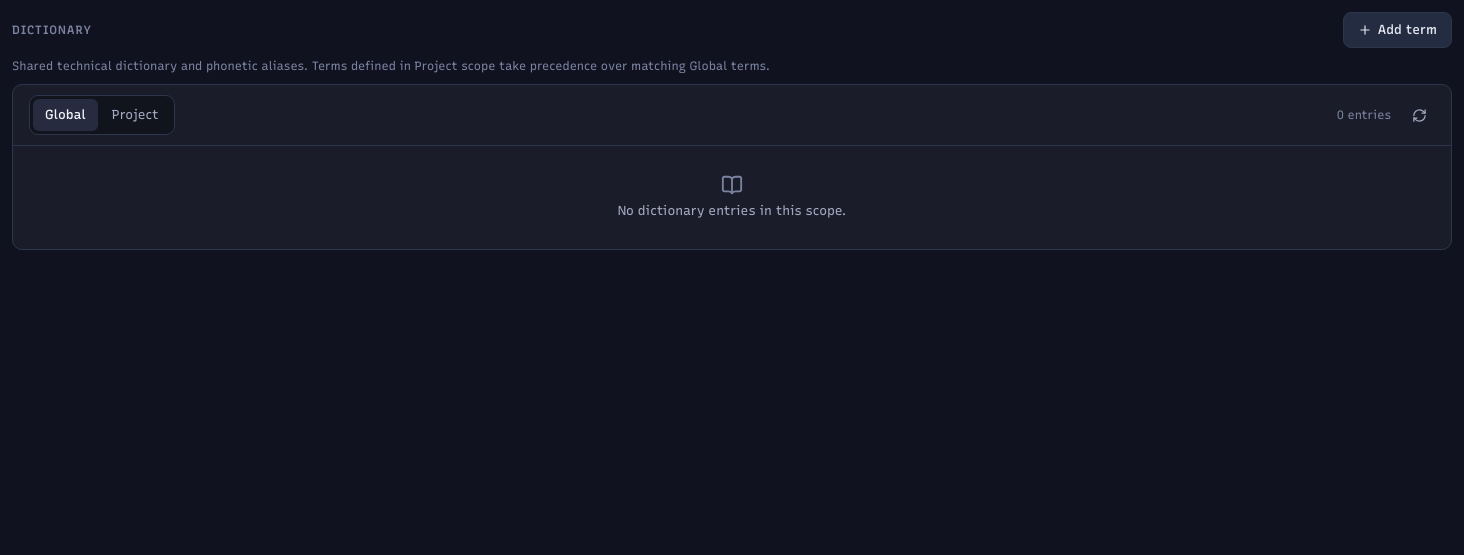
Test case: DictationDictionary (Modernized CRUD) › adds a new dictionary term with comma-separated phonetic aliases
The width and height of the screenshot is (1464, 555).
Expected: the text "0 entries" is shown, 1337,108 -> 1391,122
Click the button with test id "dictation-dictionary-add-button" at (1397, 30), box 1343,12 -> 1452,48
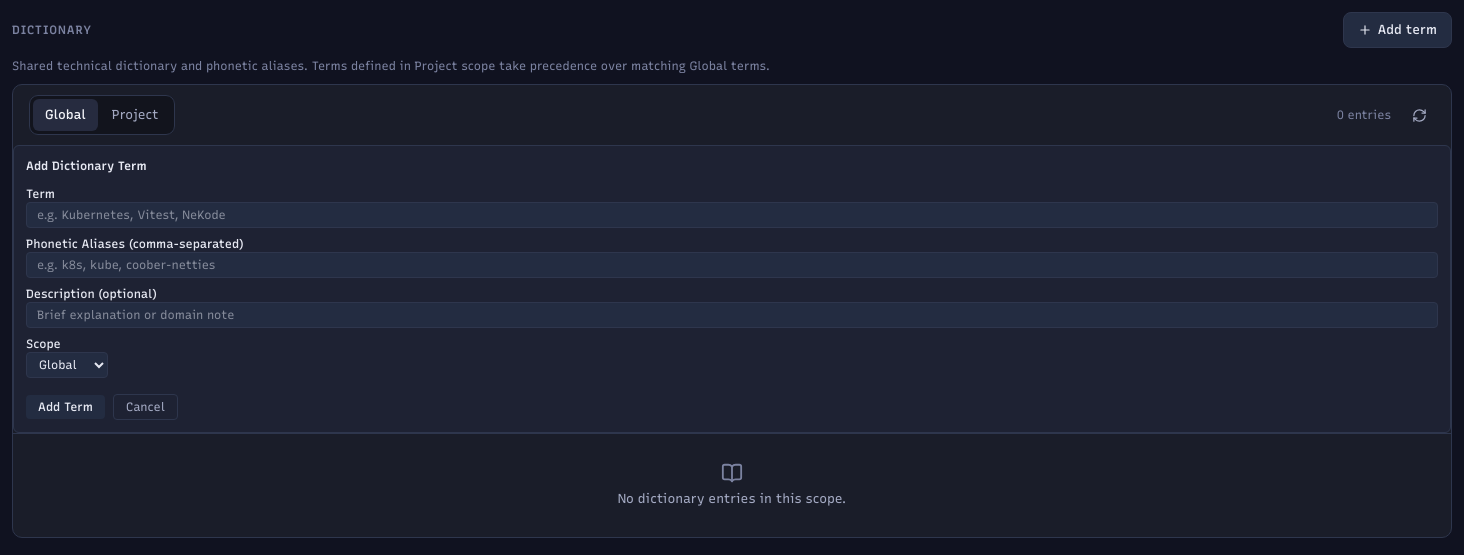
Expected: the form with test id "dictation-dictionary-form" is shown, 13,145 -> 1451,433
# Fill in form
Type "TypeScript" into the field with test id "dictation-dictionary-term-input" at (732, 215), box 26,202 -> 1438,228
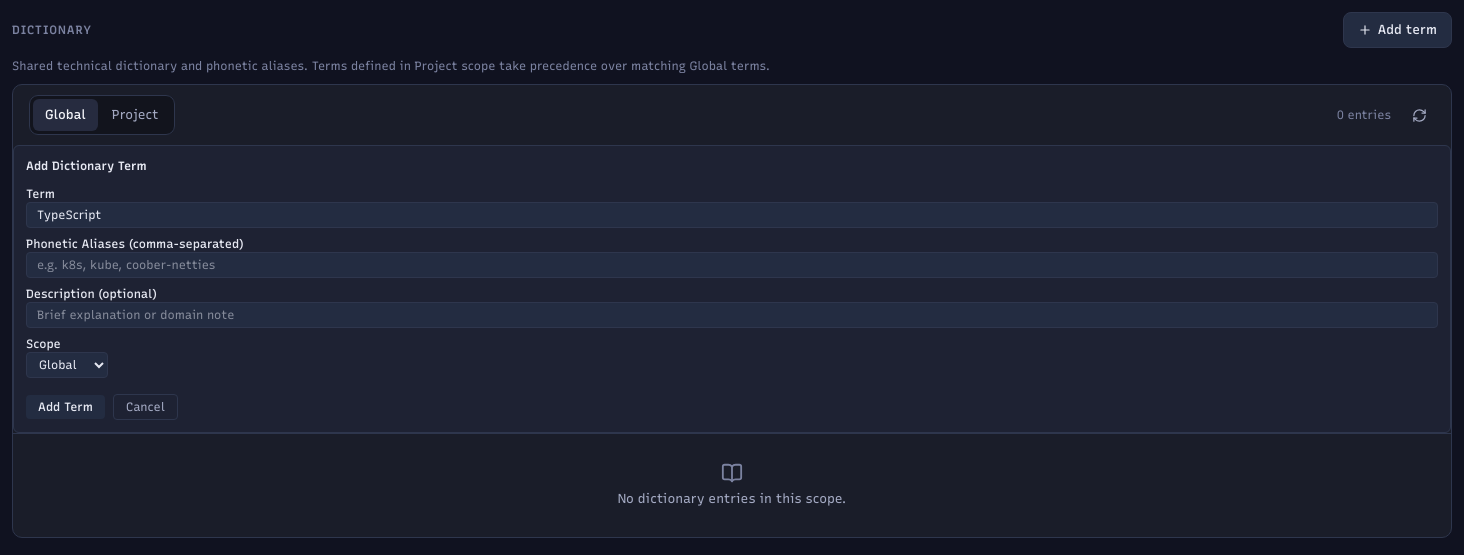
Type "ts, type script" into the field with test id "dictation-dictionary-aliases-input" at (732, 265), box 26,252 -> 1438,278
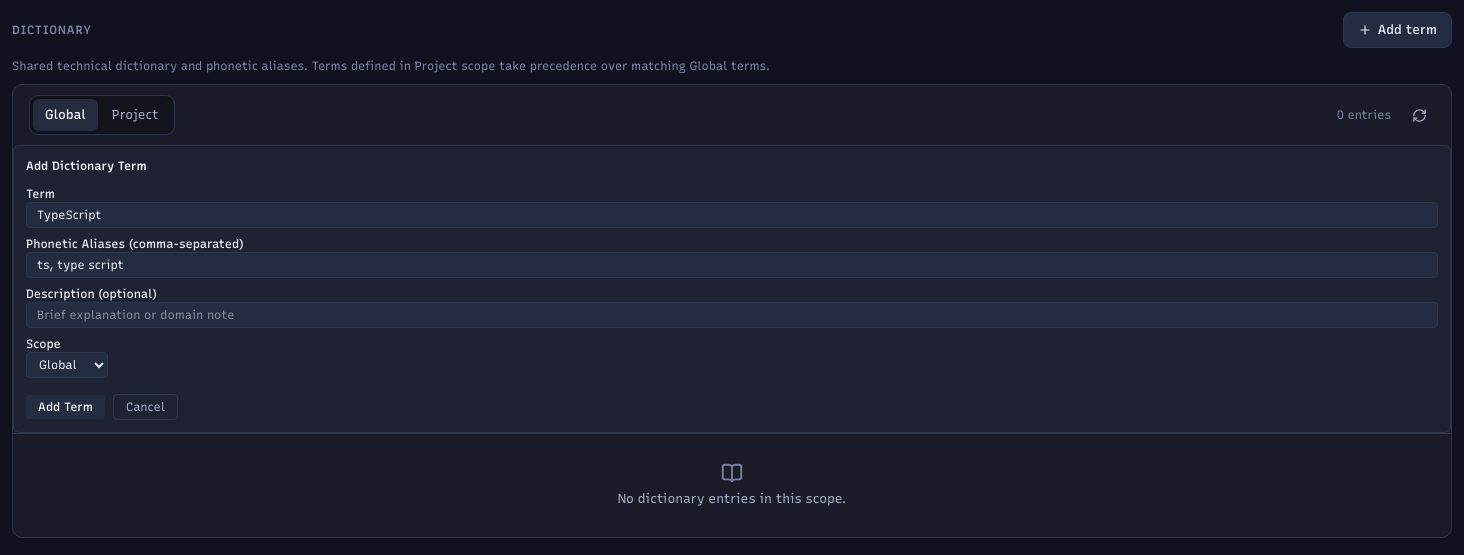
Type "Typed JavaScript" into the field with test id "dictation-dictionary-desc-input" at (732, 315), box 26,302 -> 1438,328
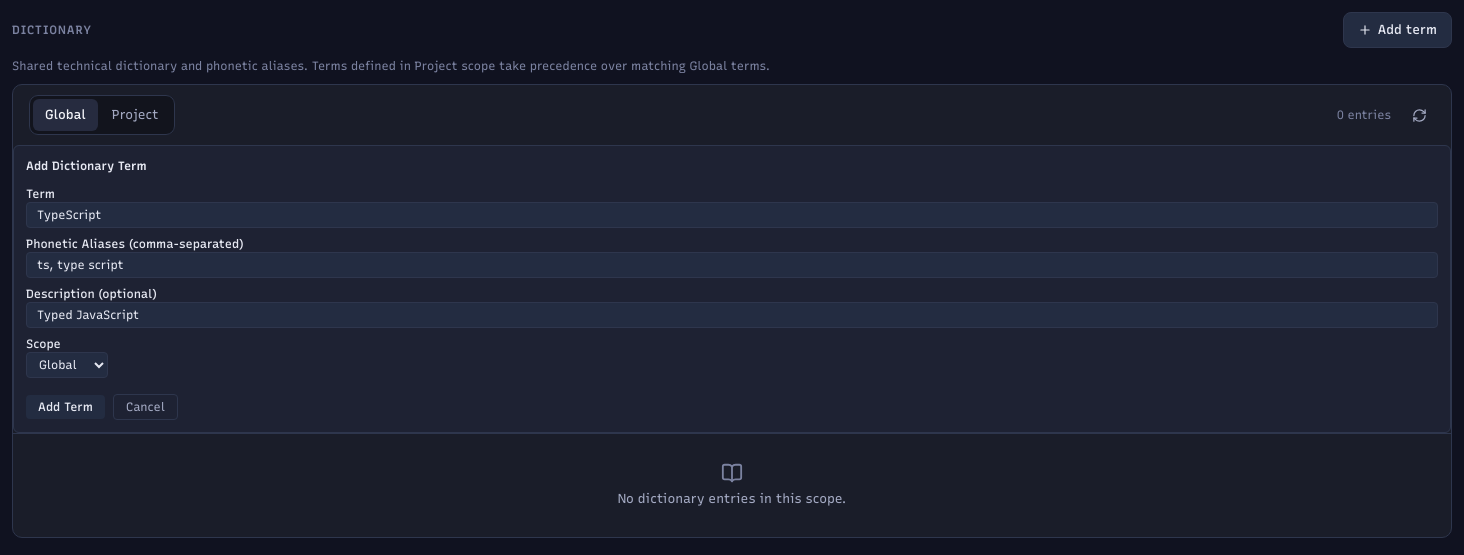
Click the button with test id "dictation-dictionary-save-button" at (66, 407), box 26,395 -> 105,419
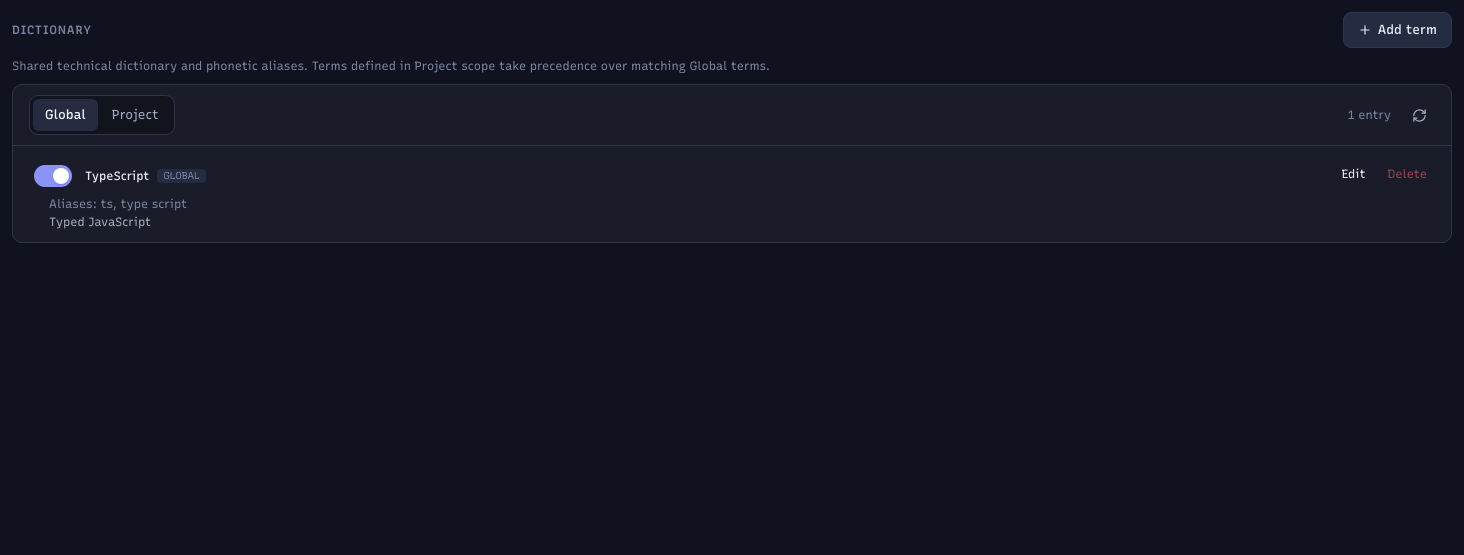
Expected: the text "TypeScript" is shown, 85,168 -> 149,184
Expected: the text "Aliases: ts, type script" is shown, 49,197 -> 187,211
